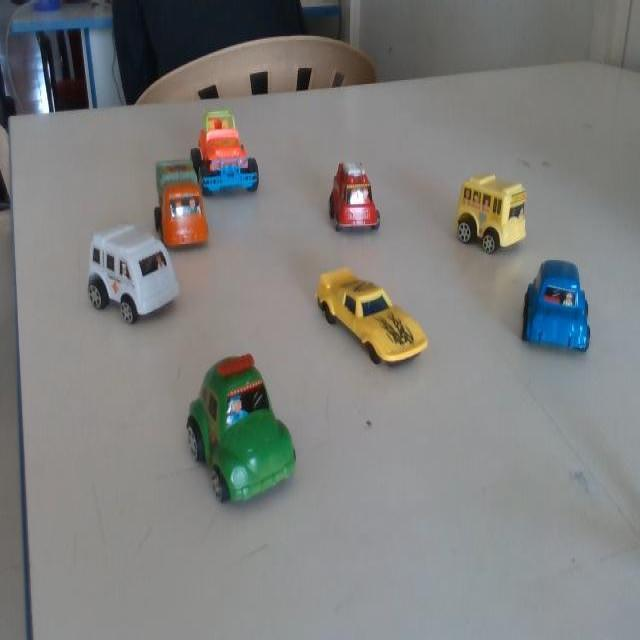car: (181, 358, 294, 494), (312, 266, 425, 370), (84, 213, 180, 332), (195, 101, 270, 196), (447, 173, 522, 260), (150, 150, 210, 256), (524, 261, 593, 352), (318, 153, 383, 247)
